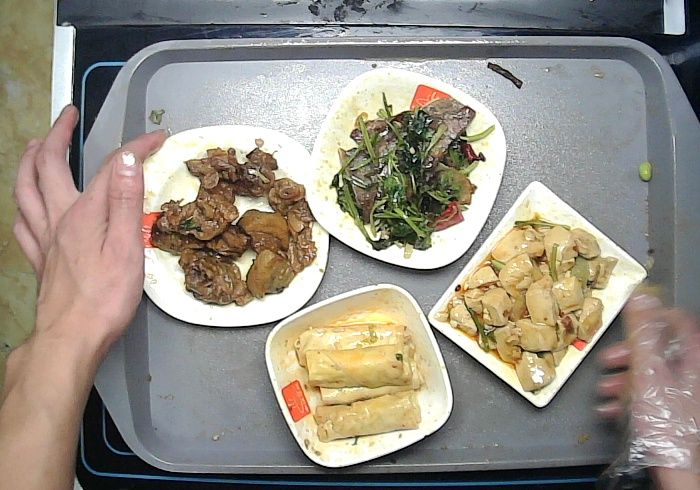SHKJ-Bai_Se_Cai_Die: (306, 65, 499, 278)
SHKJ-Bai_Se_Si_Fang_Cai_Die: (122, 117, 333, 332)
SHKJ-Bai_Se_Xiao_Fang_Die: (260, 278, 457, 472)
SHKJ-Si_Fang_Min: (428, 178, 652, 413)
